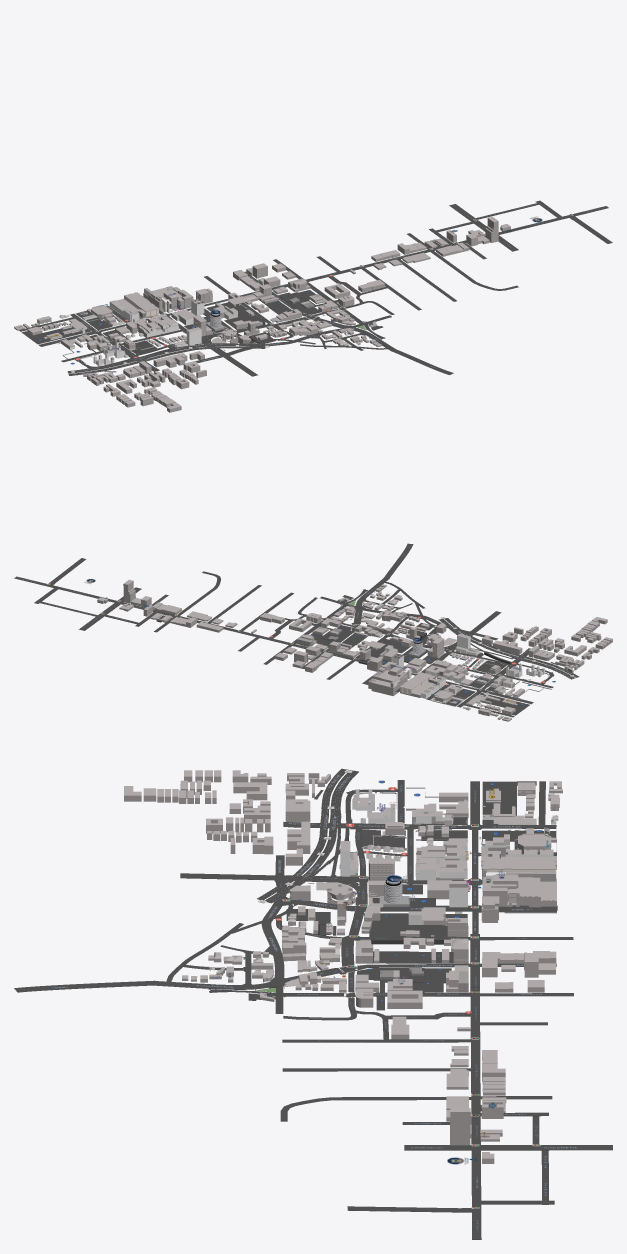
File: mobile-map.glb
3 views of the same model, one above another, from view 1: azimuth 30°, elevation 25°; view 2: azimuth 150°, elevation 25°; view 3: azimuth 270°, elevation 25° (orthographic). The views are drawn at different scales.
Parts seen in each view (by area): view 1: no part large enough to name; view 2: no part large enough to name; view 3: Part.055, Part.012, Part.3063, Part.020, Part.015, Part.019, Part.026.
Part boxes in pixels (x1,y1,x2,y2): Part.055: [369, 924, 468, 944]; Part.012: [470, 996, 480, 1099]; Part.3063: [482, 781, 516, 824]; Part.020: [471, 1149, 481, 1239]; Part.015: [466, 1145, 612, 1150]; Part.019: [282, 1039, 471, 1042]; Part.026: [282, 1068, 470, 1071].
Size of the model in its own units: 9291 by 3389 by 5030.
59 materials, 48 textured.
